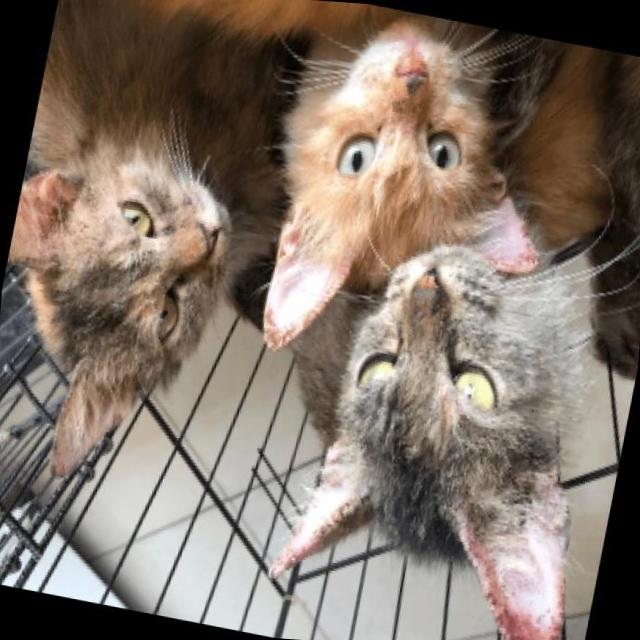Mange: (276, 499, 354, 574), (524, 588, 560, 640), (490, 592, 522, 640), (511, 223, 539, 271), (44, 466, 65, 484)
